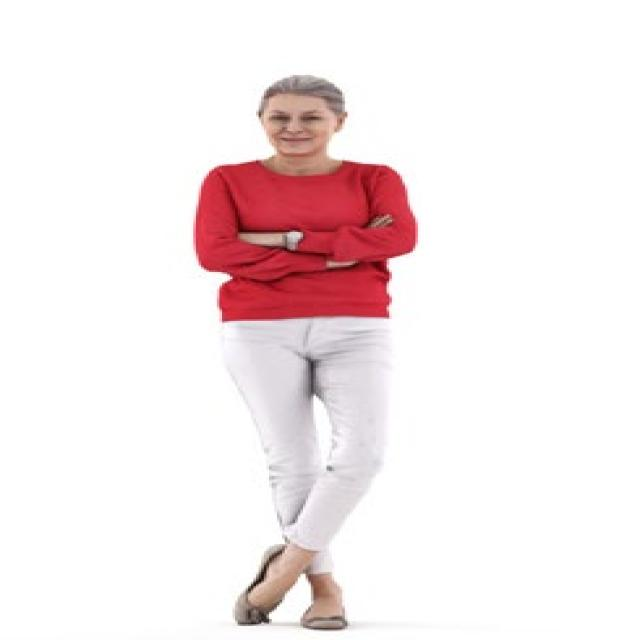standing: (188, 73, 434, 638)
